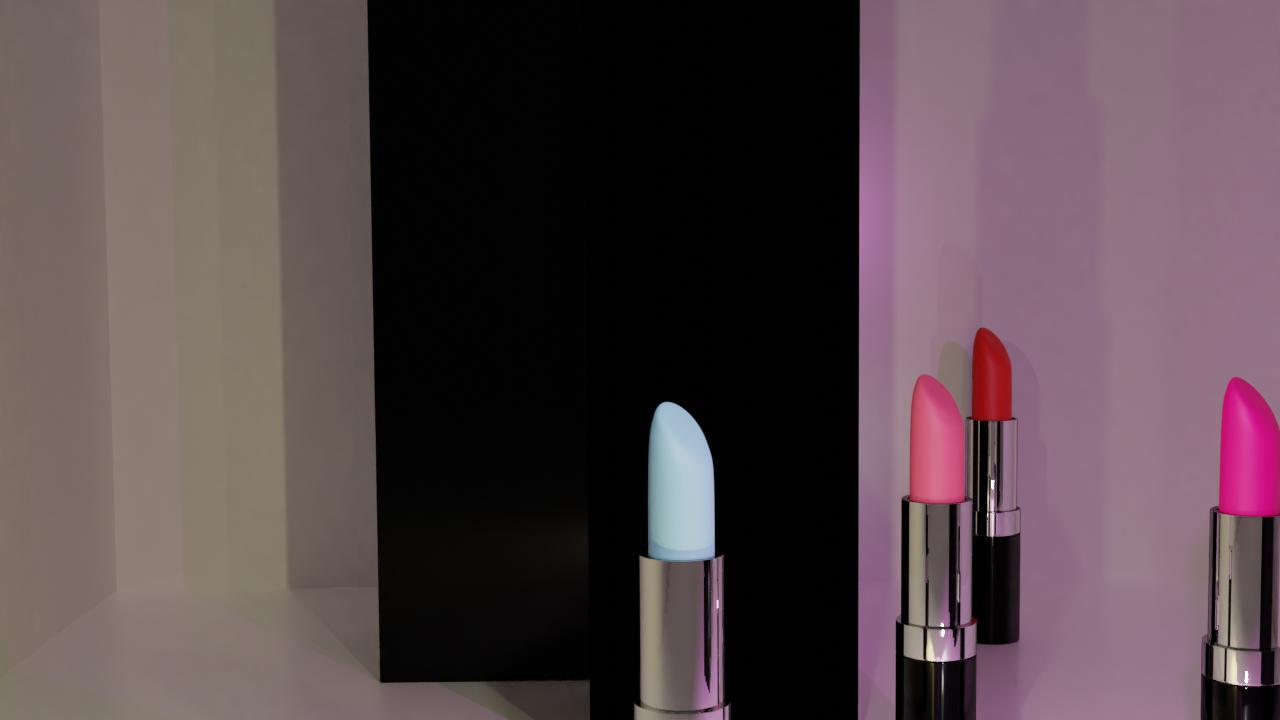CLASSIFIER_NAME: (633, 395, 733, 720), (893, 369, 978, 720), (1196, 371, 1280, 720), (959, 323, 1023, 644)
